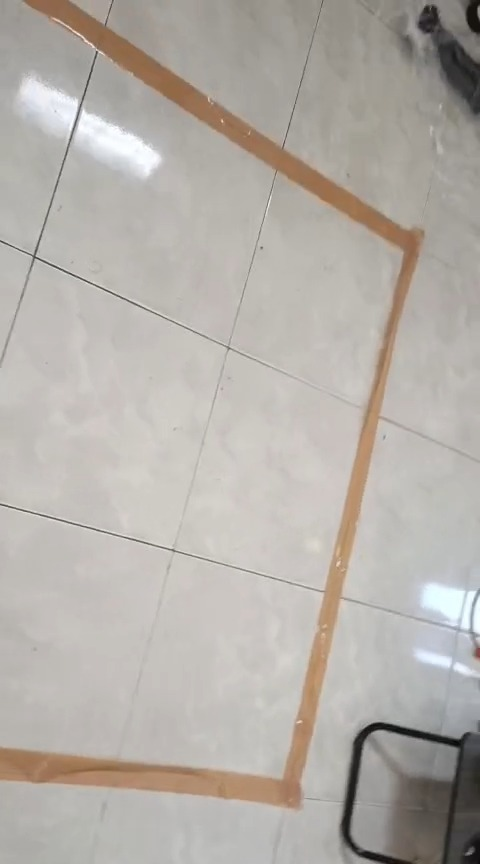floor marking: (0, 0, 422, 808)
